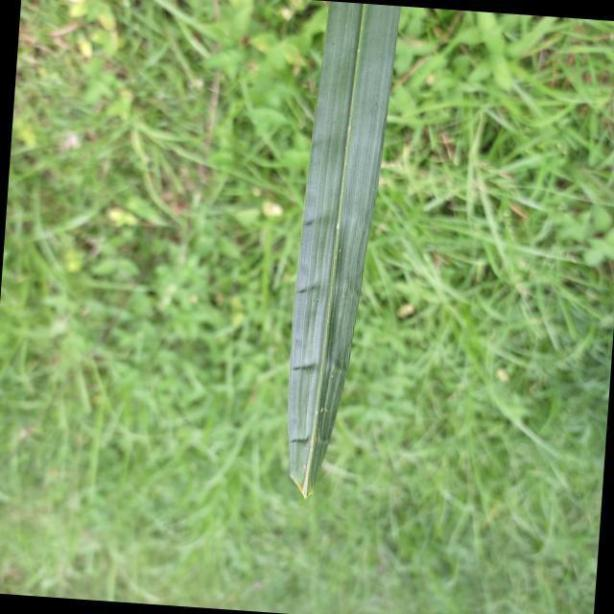Boron: (281, 0, 399, 500)
